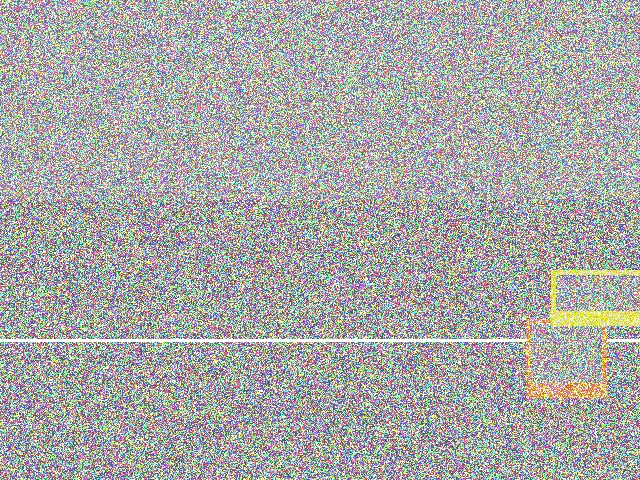bus: (6, 239, 144, 341)
